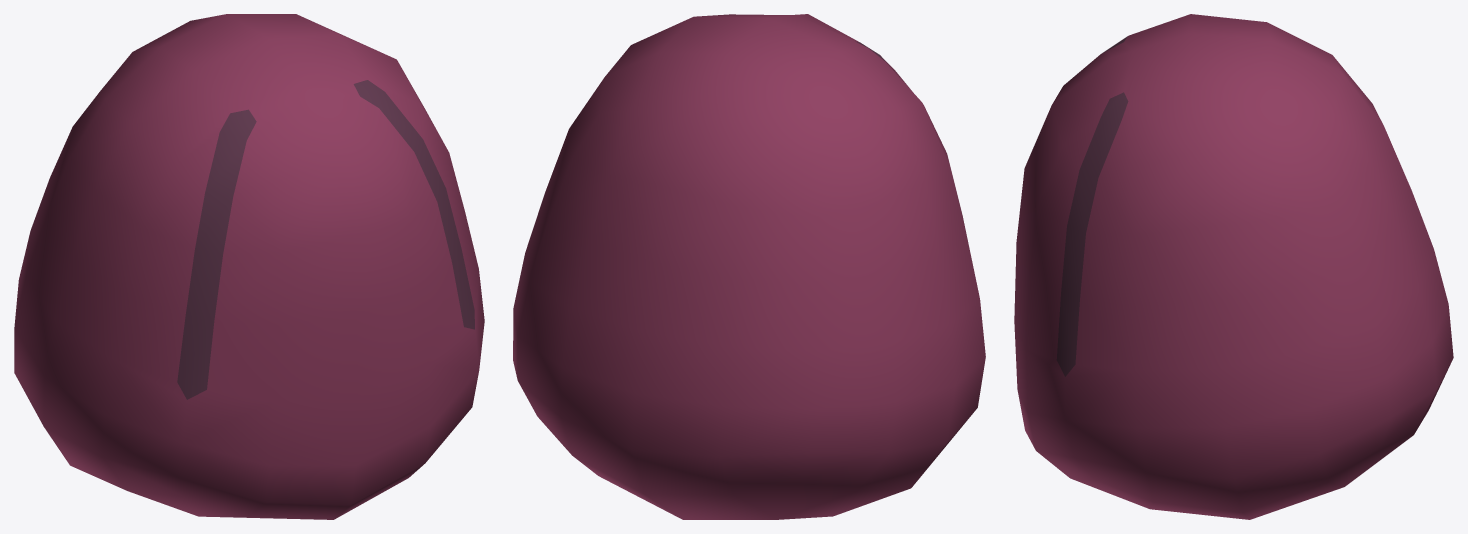
File: Pink_Blob.fbx
3 views of the same model, side by side, from view 1: azimuth 30°, elevation 25°; view 2: azimuth 150°, elevation 25°; view 3: azimuth 270°, elevation 25° (orthographic). The views are drawn at different scales.
Parts seen in each view (by area): view 1: Pink_Blob; view 2: Pink_Blob; view 3: Pink_Blob.
Part boxes in pixels (x1,y1,x2,y2): Pink_Blob: [14, 14, 484, 519]; Pink_Blob: [513, 14, 985, 519]; Pink_Blob: [1014, 14, 1453, 519].
Size of the model in its own units: 189 by 207 by 179.
